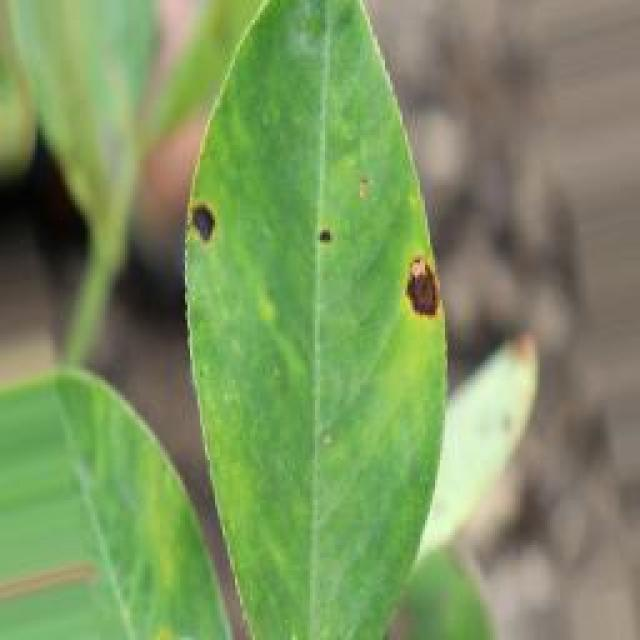Yellowish: (162, 176, 257, 283), (378, 222, 458, 338), (306, 199, 375, 286)
